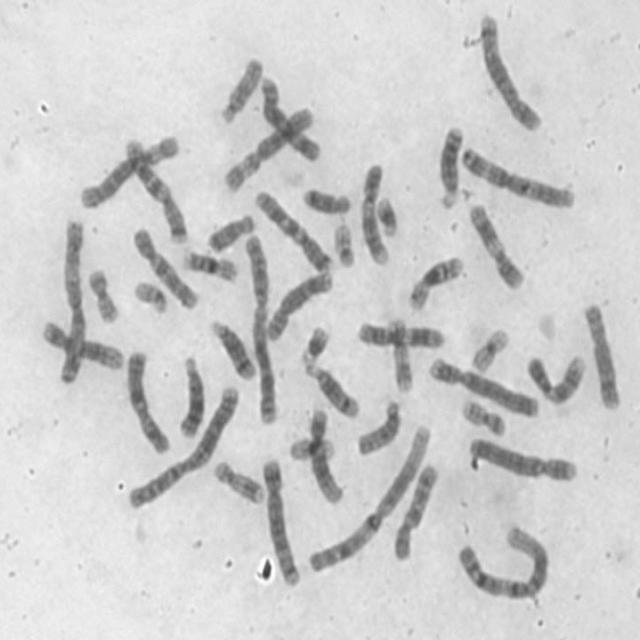A1: (306, 424, 432, 573), (455, 522, 553, 602)
A2: (126, 383, 240, 511), (244, 233, 279, 426)
A3: (461, 144, 577, 210), (59, 216, 89, 388)
B4: (426, 357, 541, 420), (468, 436, 579, 485)
B5: (477, 11, 546, 135), (262, 459, 302, 589)
C10: (131, 227, 203, 314), (392, 462, 440, 562)
C11: (468, 200, 526, 294), (357, 320, 446, 350)
C12: (39, 318, 125, 372), (307, 406, 345, 507)
C6: (218, 107, 313, 196), (77, 133, 180, 210)
C7: (125, 138, 192, 245), (253, 188, 334, 275)
C8: (264, 270, 336, 343), (580, 300, 623, 412)
C9: (526, 350, 588, 406), (358, 162, 389, 266)
D13: (176, 354, 208, 440), (435, 125, 464, 211)
D14: (304, 361, 360, 421), (208, 316, 258, 382)
D15: (353, 399, 405, 459), (221, 57, 263, 125)
E16: (406, 256, 464, 312), (182, 249, 238, 285)
E17: (212, 460, 265, 506), (386, 316, 415, 397)
E18: (205, 213, 257, 256), (302, 184, 352, 216)
F19: (468, 329, 513, 375), (288, 435, 336, 462)
F20: (86, 264, 121, 326), (458, 396, 506, 435)
G21: (300, 322, 332, 366), (376, 196, 398, 238)
G22: (331, 222, 358, 270), (134, 280, 169, 315)
X: (257, 74, 323, 165), (124, 348, 172, 458)
